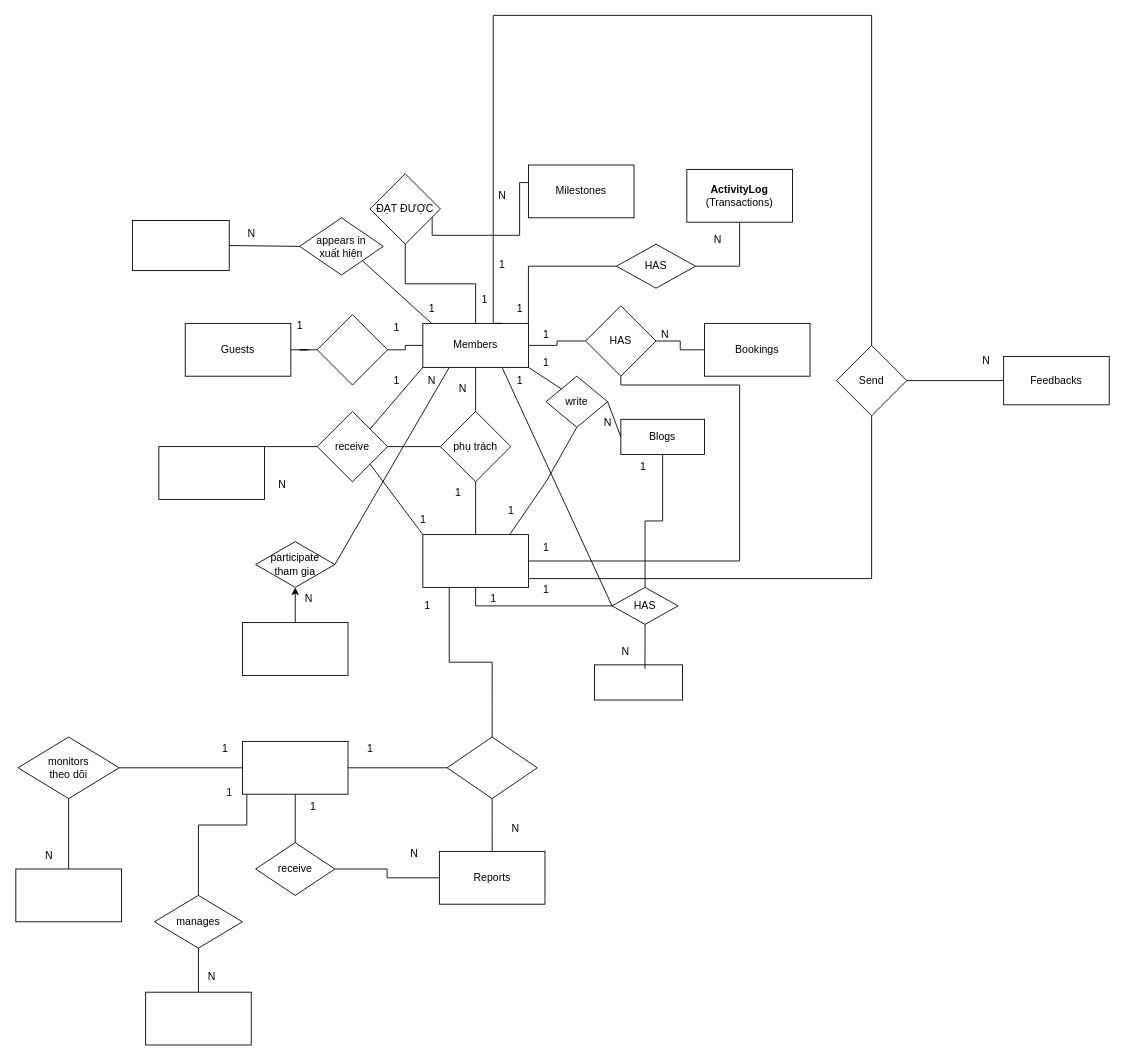
Some shapes in this 1125 by 1060 pixel diagram are drawn without their labels. The shapes that lost their labels are listed below. From the top down, each one's centre as x and y in pixels, then its label:
At point (180, 245): "Rankings".
At point (352, 349): "become".
At point (211, 472): "Notifications".
At point (475, 560): "Coaches".
At point (295, 648): "Challenges".
At point (638, 682): "Comments".
At point (295, 767): "Admins".
At point (491, 767): "create".
At point (68, 895): "System_Logs".
At point (198, 1018): "Documents".
